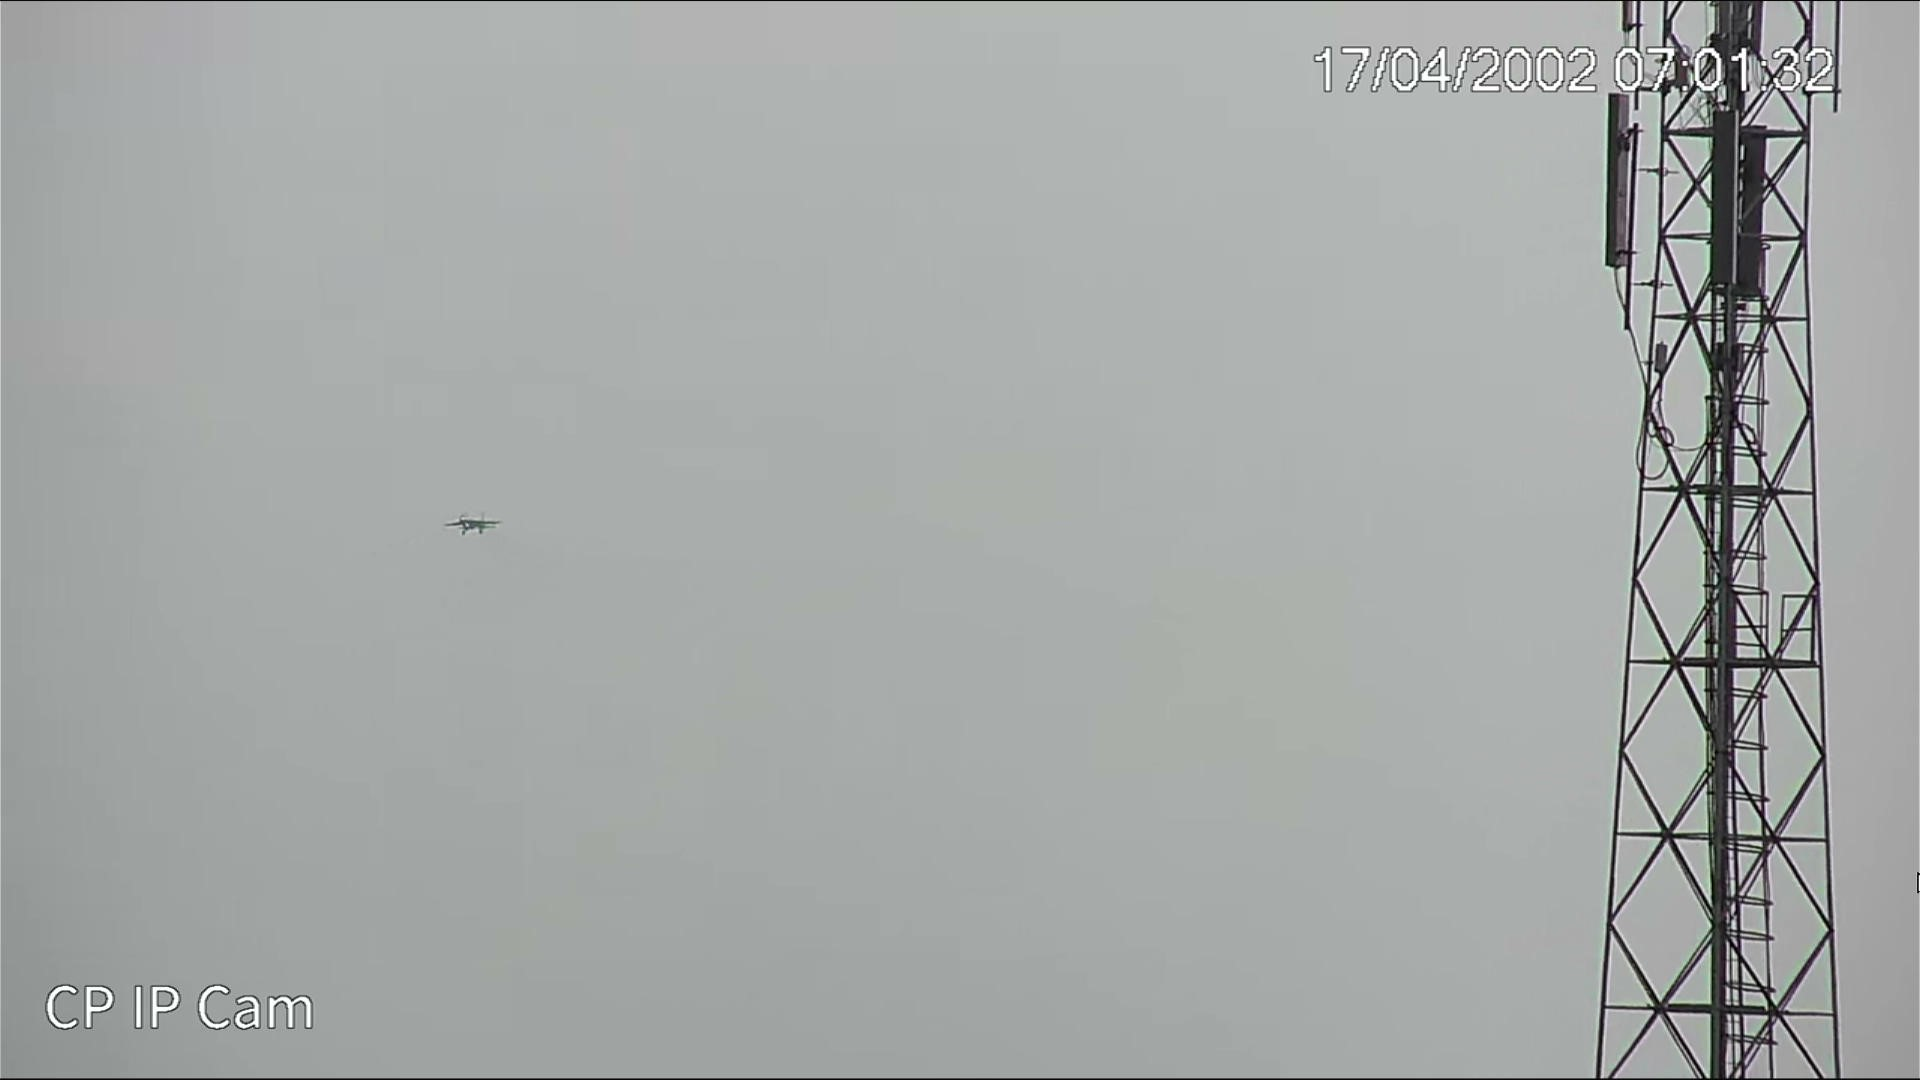SU_30: (444, 512, 501, 535)
